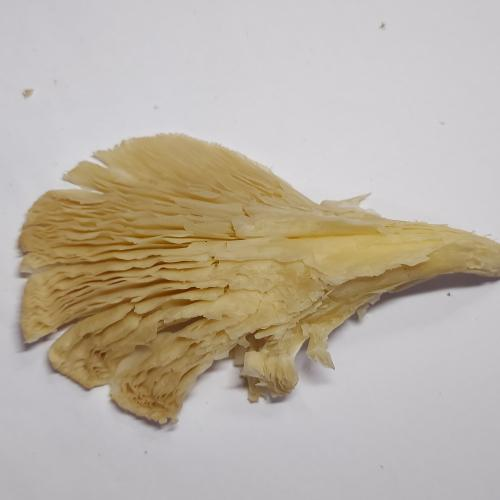Oyster Mushroom: (0, 93, 500, 500)
